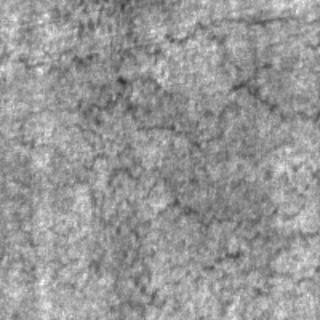crazing: (62, 18, 298, 242)
